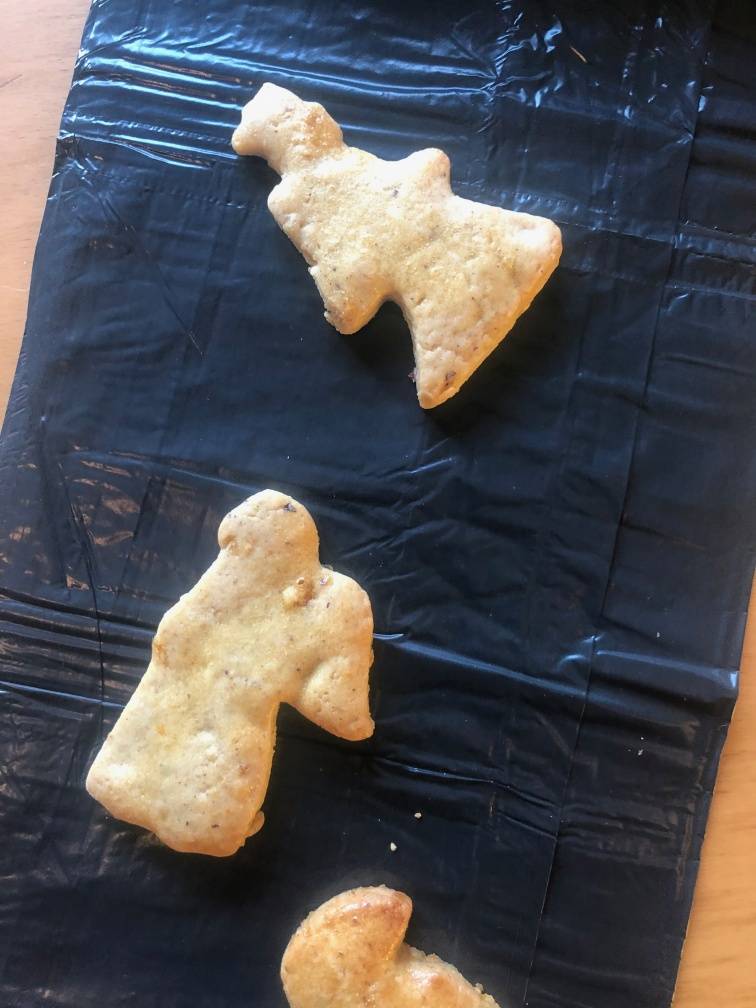angel: (83, 485, 374, 860)
king mage: (225, 80, 565, 412)
